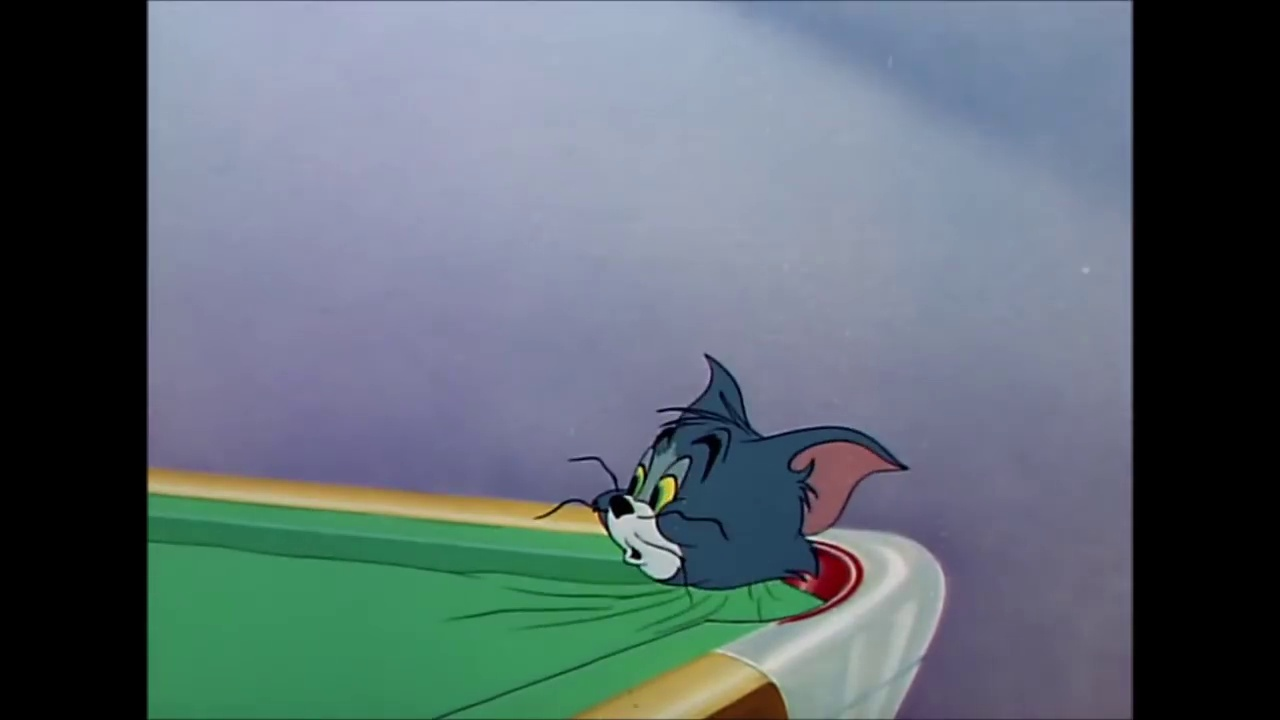sad: (621, 417, 727, 588)
